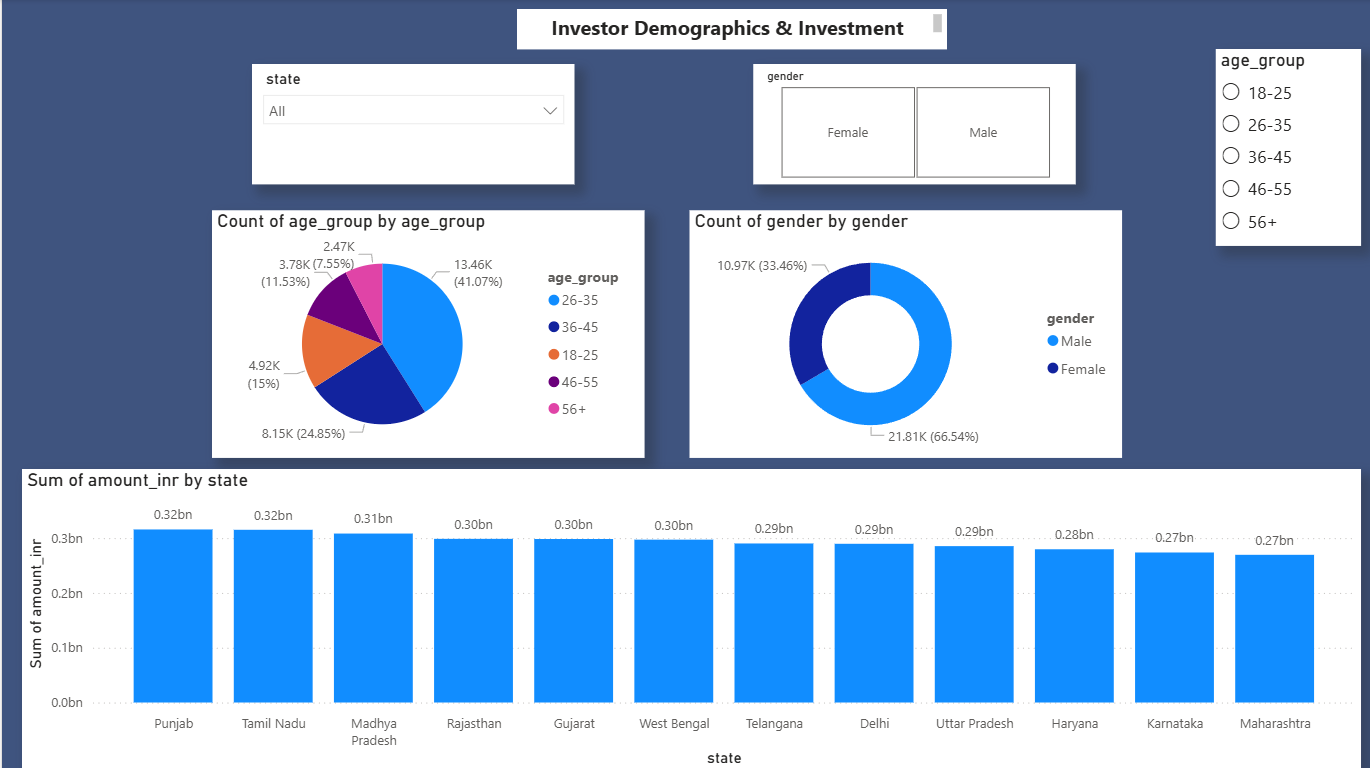

The dashboard page shown, as its layout file describes it:
{"tool":"powerbi","page":{"name":"Page 3","canvas":[1280,720],"ordinal":2},"visuals":[{"type":"pieChart","fields":{"Category":["investor_transactions_clean.age_group"],"Y":["CountNonNull(investor_transactions_clean.age_group)"]},"box":[195.6,196.7,402.2,230],"z":0},{"type":"donutChart","fields":{"Category":["investor_transactions_clean.gender"],"Y":["CountNonNull(investor_transactions_clean.gender)"]},"box":[640,196.7,402.2,230],"z":1000},{"type":"clusteredColumnChart","fields":{"Category":["investor_transactions_clean.state"],"Y":["Sum(investor_transactions_clean.amount_inr)"]},"box":[18.9,437.8,1245.6,282.2],"z":2000},{"type":"slicer","fields":{"Values":["investor_transactions_clean.state"]},"box":[232.2,60,300,112.2],"z":3000},{"type":"slicer","fields":{"Values":["investor_transactions_clean.gender"]},"box":[698.9,60,300,112.2],"z":4000},{"type":"listSlicer","fields":{"Values":["investor_transactions_clean.age_group"]},"box":[1128.9,46.7,135.6,183.3],"z":5000},{"type":"textbox","box":[479.1,9.3,400,37.2],"z":6000}]}

Visuals, with their boxes in screenshot pixels (x1, y1, x2, y2), scaled from the page's 1280x720 canvas onto the 1370x768 screenshot:
pieChart - investor_transactions_clean.age_group x CountNonNull(investor_transactions_clean.age_group): left=209, top=210, right=640, bottom=455
donutChart - investor_transactions_clean.gender x CountNonNull(investor_transactions_clean.gender): left=685, top=210, right=1115, bottom=455
clusteredColumnChart - investor_transactions_clean.state x Sum(investor_transactions_clean.amount_inr): left=20, top=467, right=1353, bottom=767
slicer - investor_transactions_clean.state: left=249, top=64, right=570, bottom=184
slicer - investor_transactions_clean.gender: left=748, top=64, right=1069, bottom=184
listSlicer - investor_transactions_clean.age_group: left=1208, top=50, right=1353, bottom=245
textbox: left=513, top=10, right=941, bottom=50
